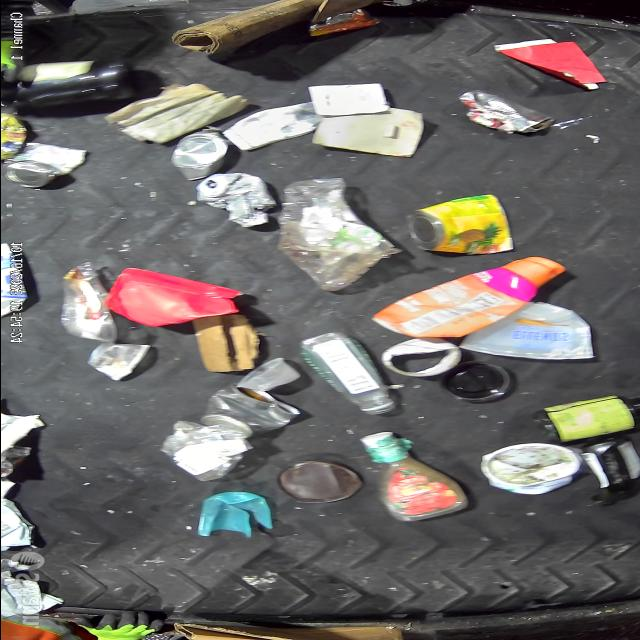can: (411, 196, 521, 258), (473, 438, 582, 497), (205, 386, 312, 432), (448, 89, 557, 134), (2, 140, 88, 194), (164, 126, 238, 182)
non_white_jug: (368, 258, 584, 340)
